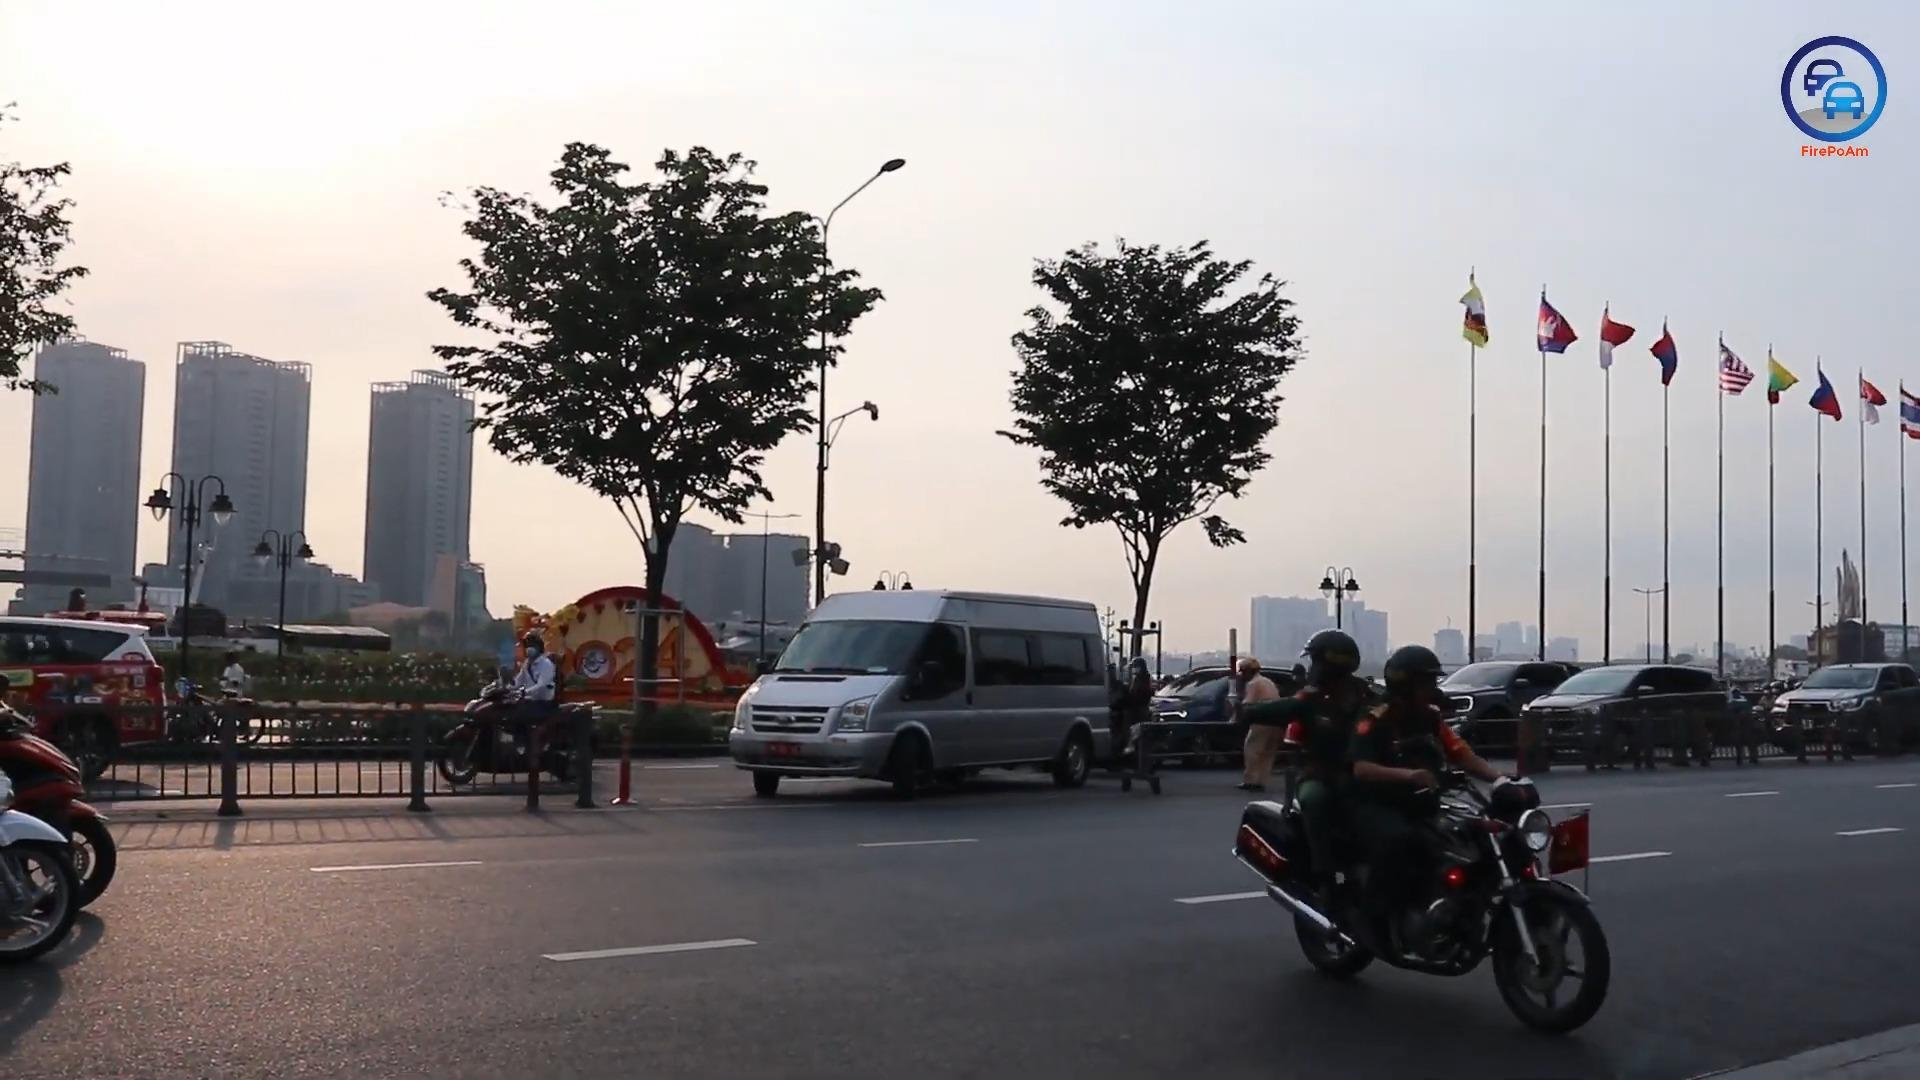bien_so: (761, 740, 801, 760)
